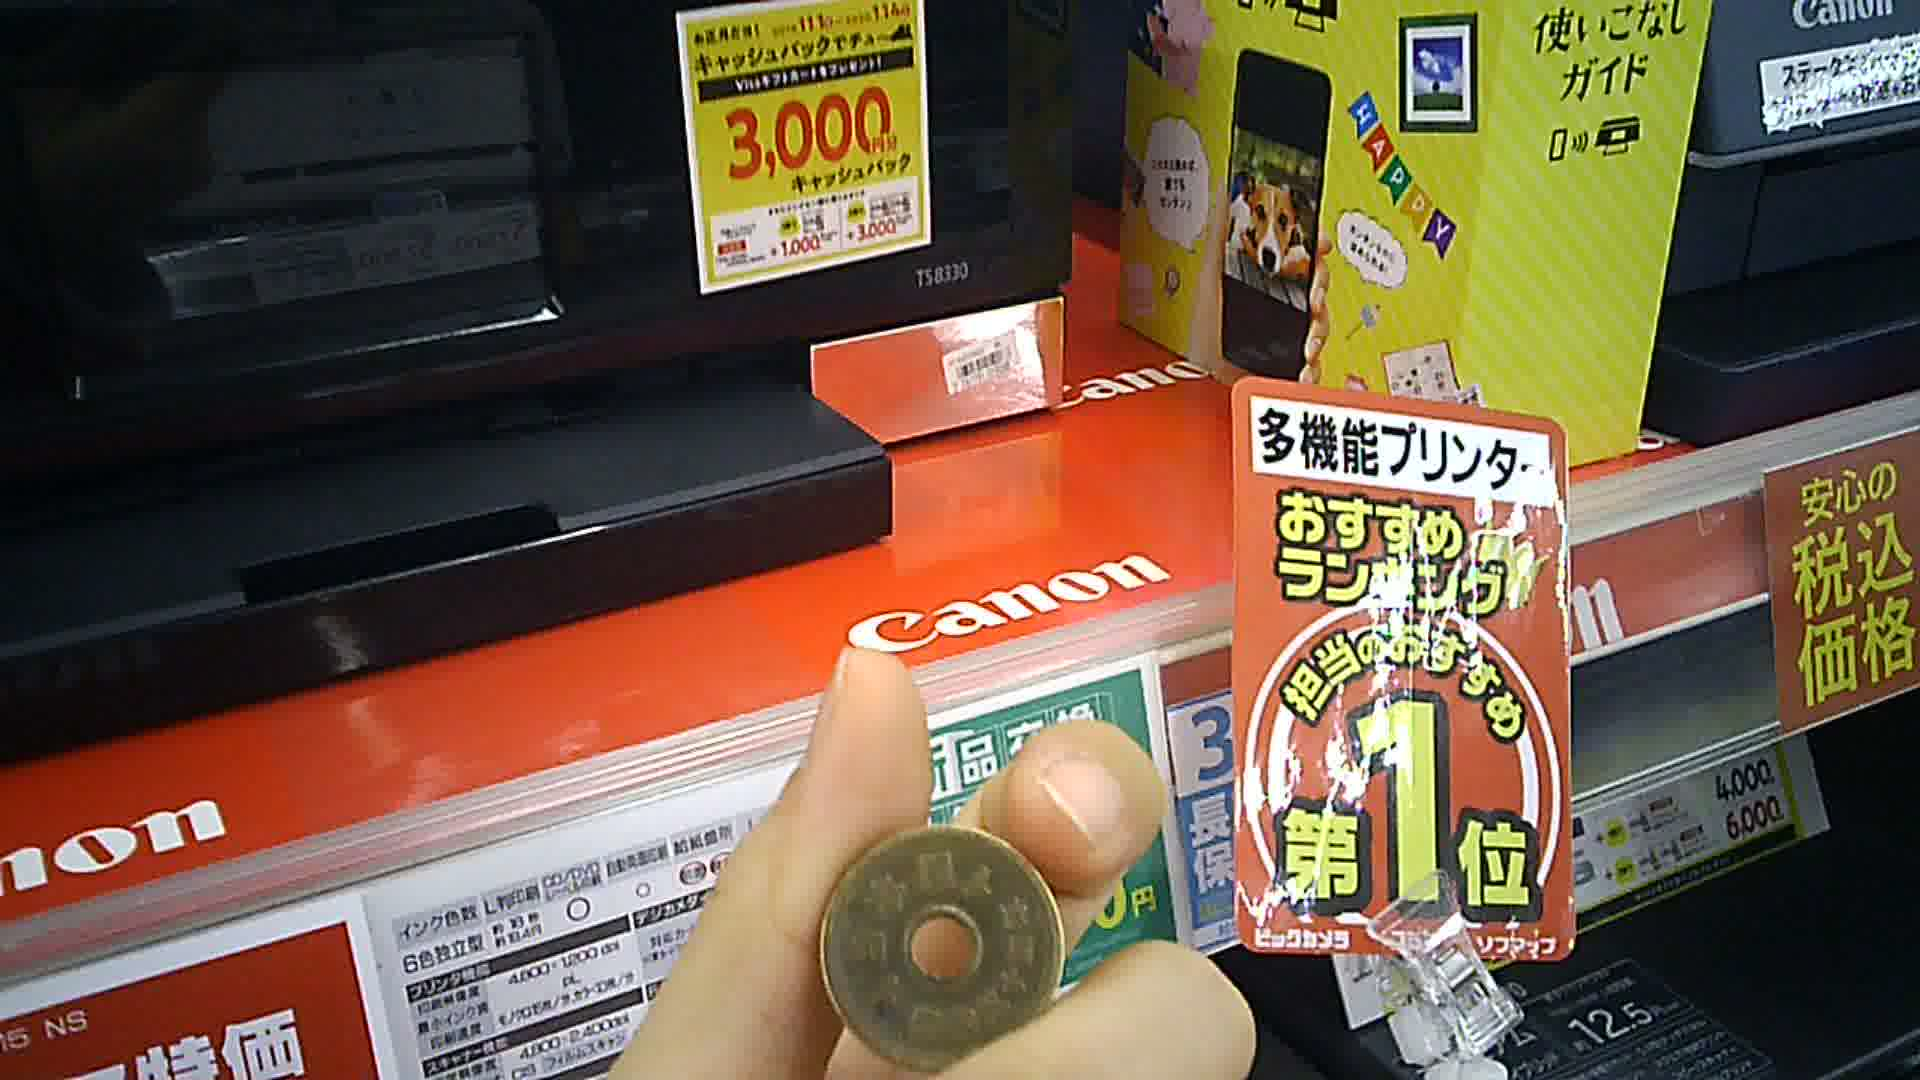5 Yen: (811, 822, 1054, 1079)
